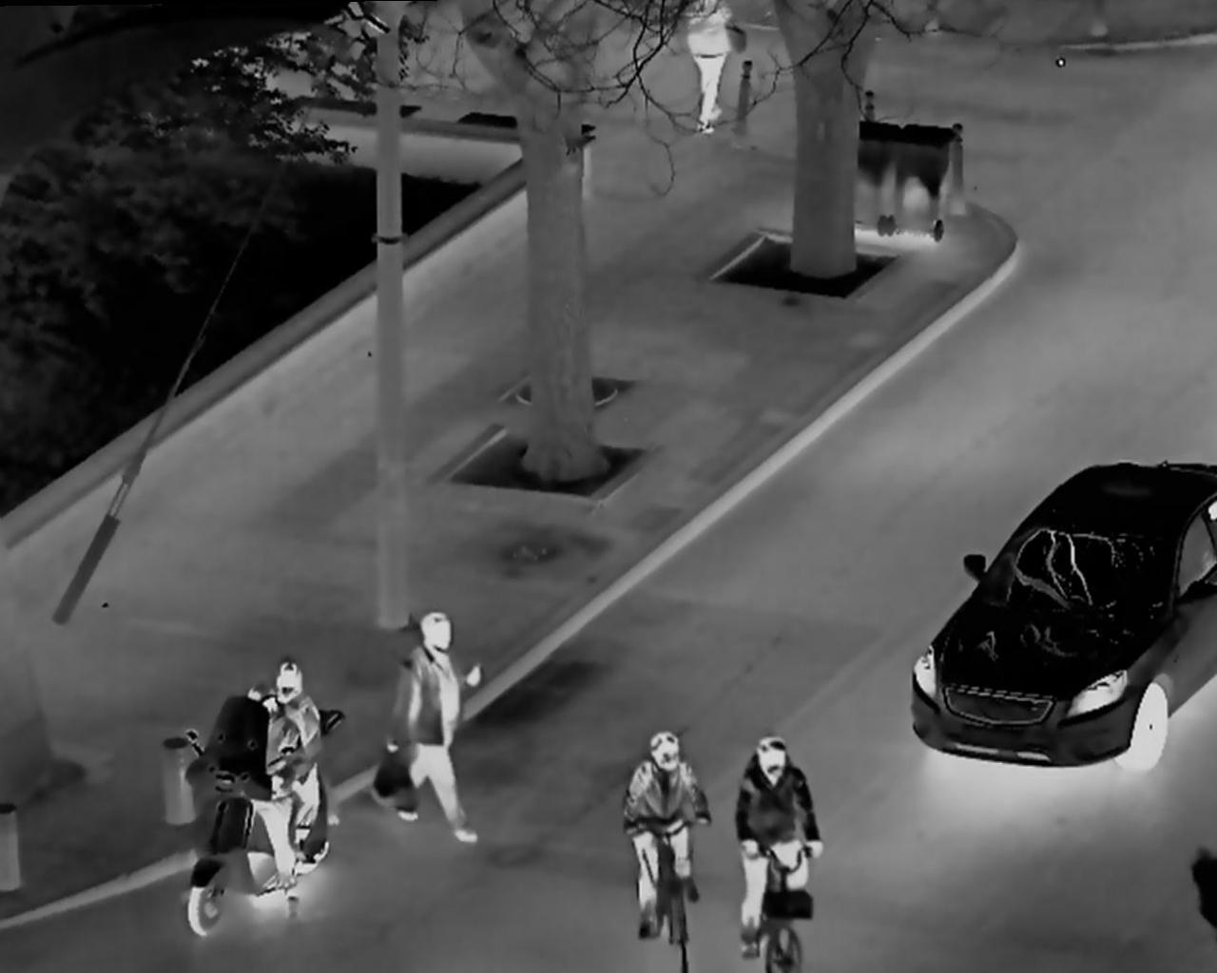person: (372, 611, 491, 843), (725, 728, 831, 962), (612, 716, 714, 951), (216, 683, 306, 918), (253, 657, 321, 872)
